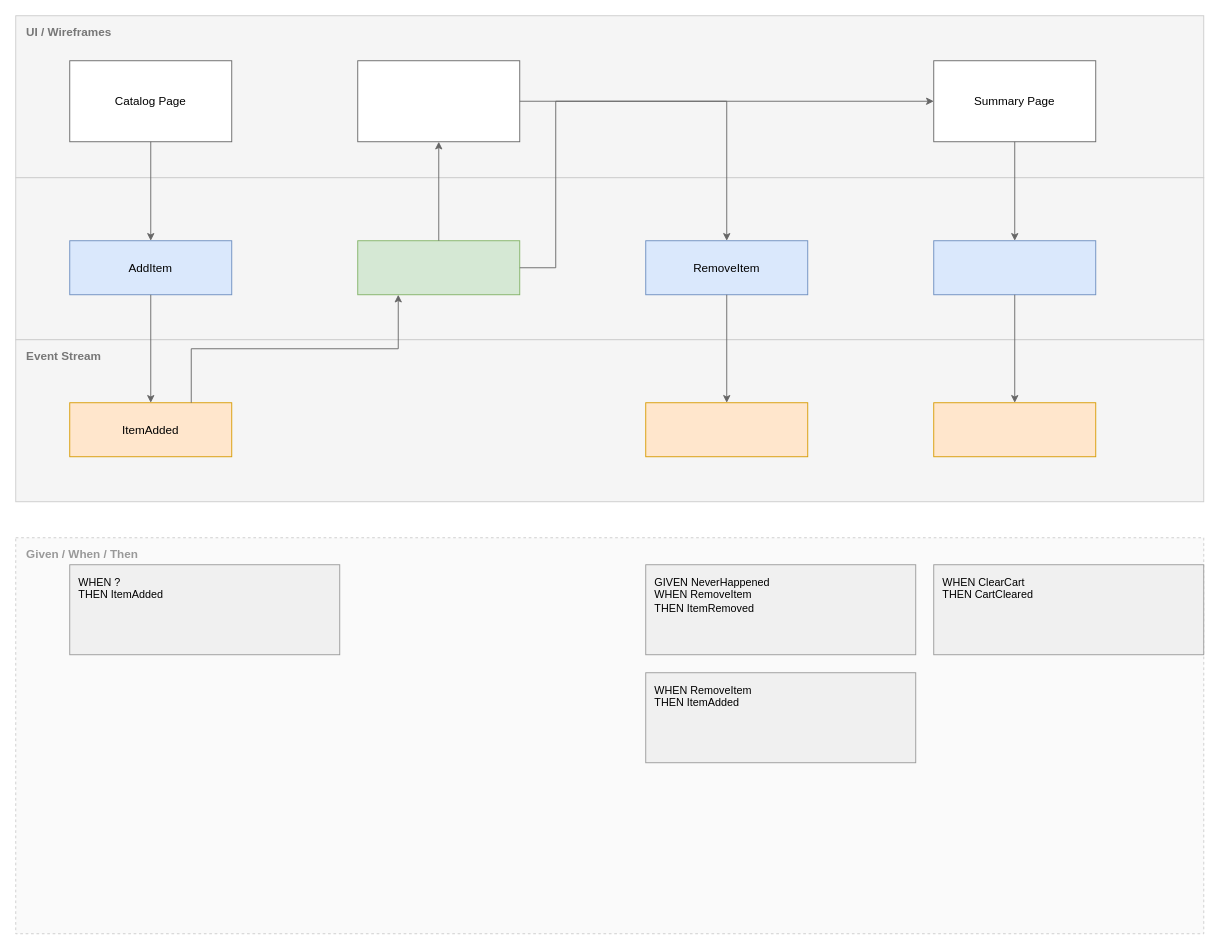
This 1220x950 diagram has some shape labels left out. The shapes that lost their labels are listed below. From the top down, each one's box as (x1, y1, x2, y2) in pixels, then its label:
(357, 60, 520, 142): Cart Page
(357, 240, 520, 295): CartItems
(15, 177, 1204, 340): Commands / Views / Automation
(933, 240, 1096, 295): ClearCart
(645, 402, 808, 457): ItemRemoved
(933, 402, 1096, 457): CartCleared
